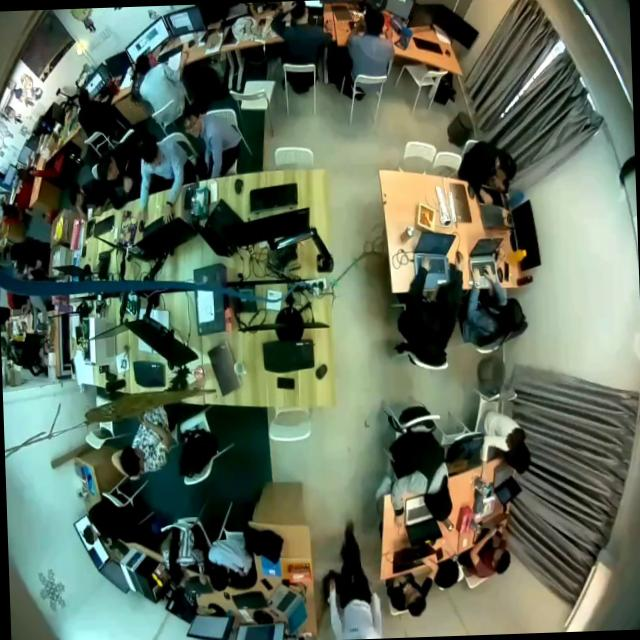employee_tag: (348, 620, 361, 637)
